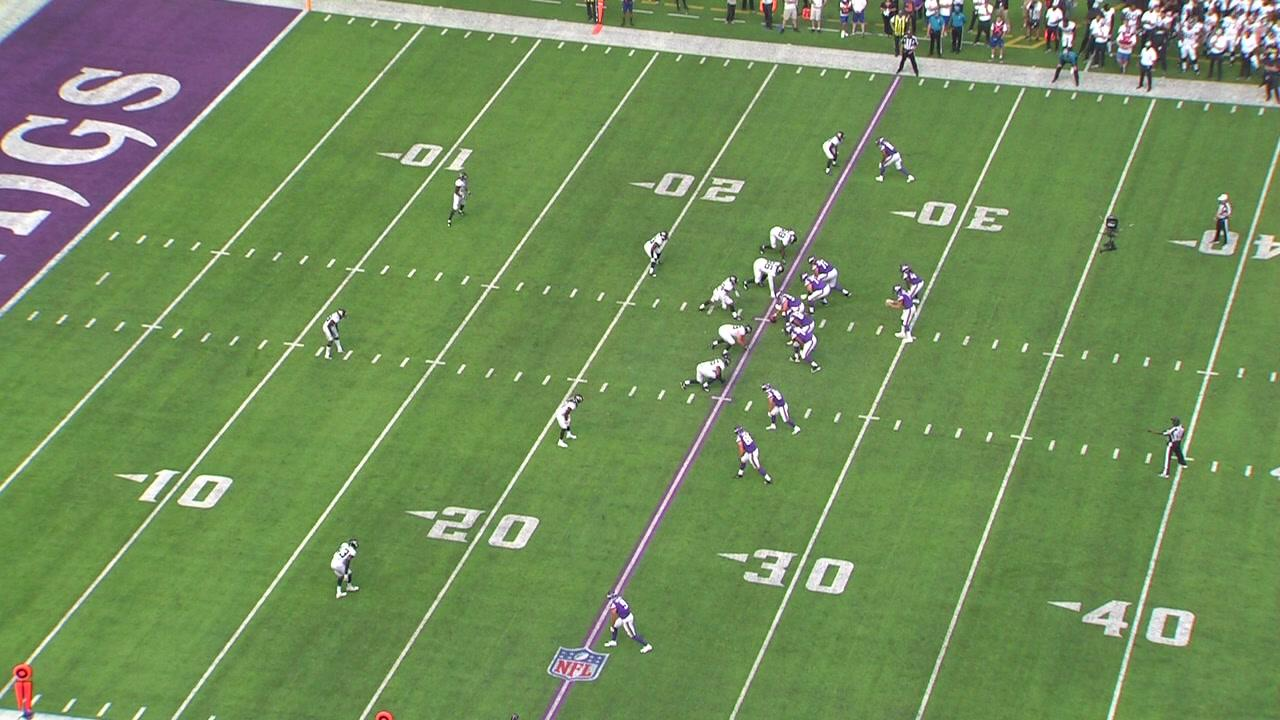player: (319, 532, 375, 606), (729, 418, 773, 493), (606, 592, 651, 656), (552, 386, 585, 458), (810, 252, 854, 301), (761, 384, 800, 437), (875, 135, 913, 186), (701, 272, 739, 319), (686, 357, 732, 394), (711, 321, 759, 356), (445, 168, 473, 226), (891, 285, 918, 345), (323, 301, 351, 358), (642, 226, 672, 275), (785, 331, 822, 368), (760, 225, 802, 255), (749, 258, 788, 290), (820, 129, 848, 173), (797, 276, 835, 308), (768, 292, 804, 322), (900, 257, 925, 297), (784, 310, 812, 330)
ref: (1148, 415, 1190, 477), (891, 28, 921, 77), (1209, 192, 1233, 253)
